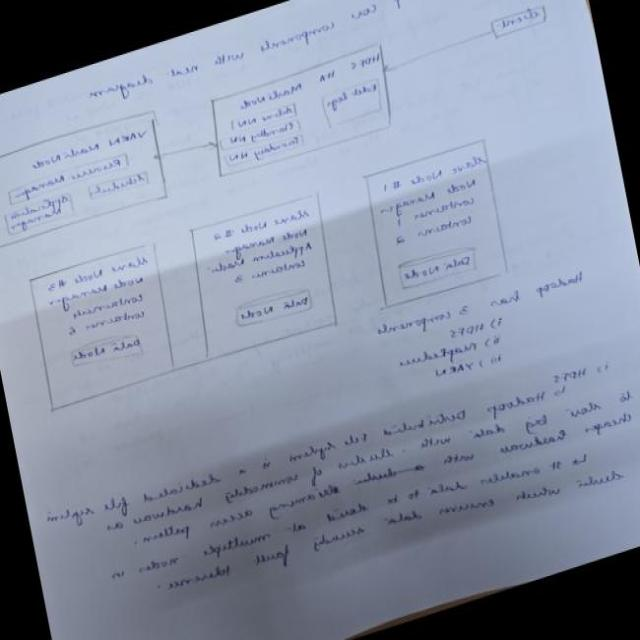Figure Detection - v3 Dataset Version2: (0, 0, 609, 439)
